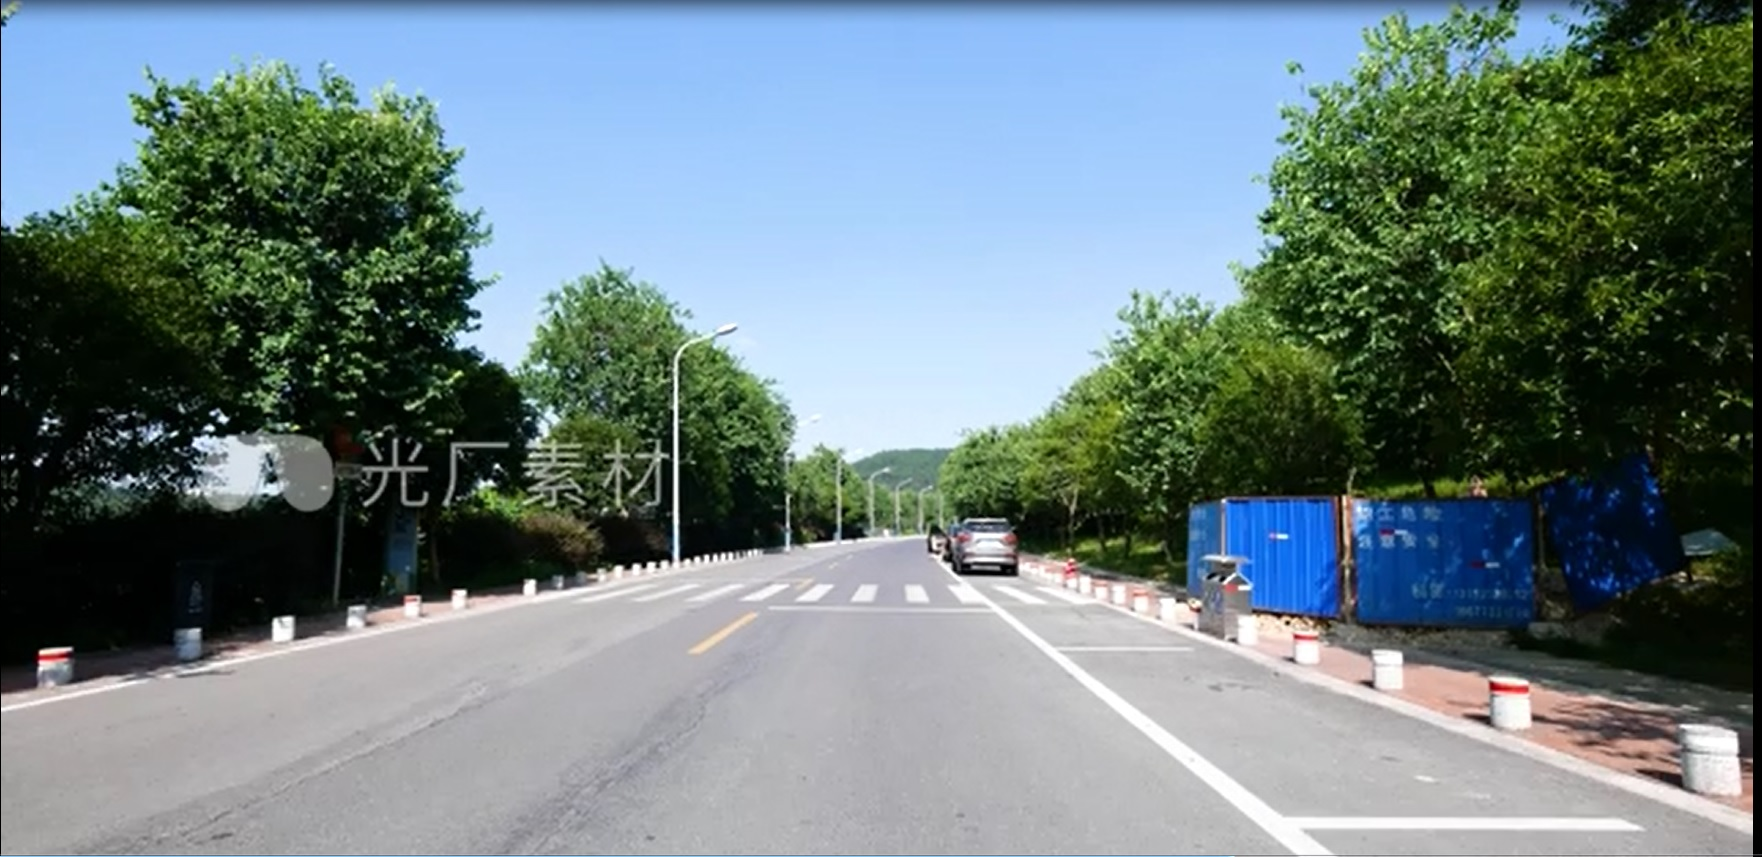slot_nocar: (1017, 630, 1708, 854), (969, 591, 1235, 677)
